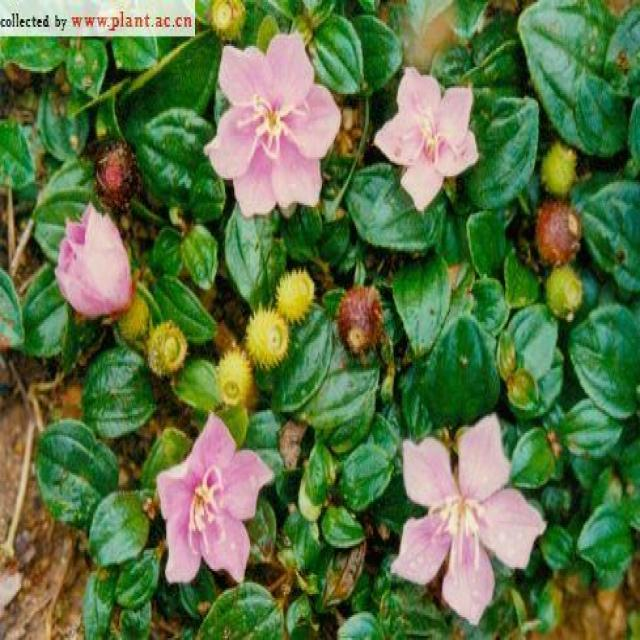organic waste: (392, 416, 550, 621), (203, 31, 349, 222), (148, 414, 288, 594), (363, 67, 492, 207), (51, 186, 139, 333)
